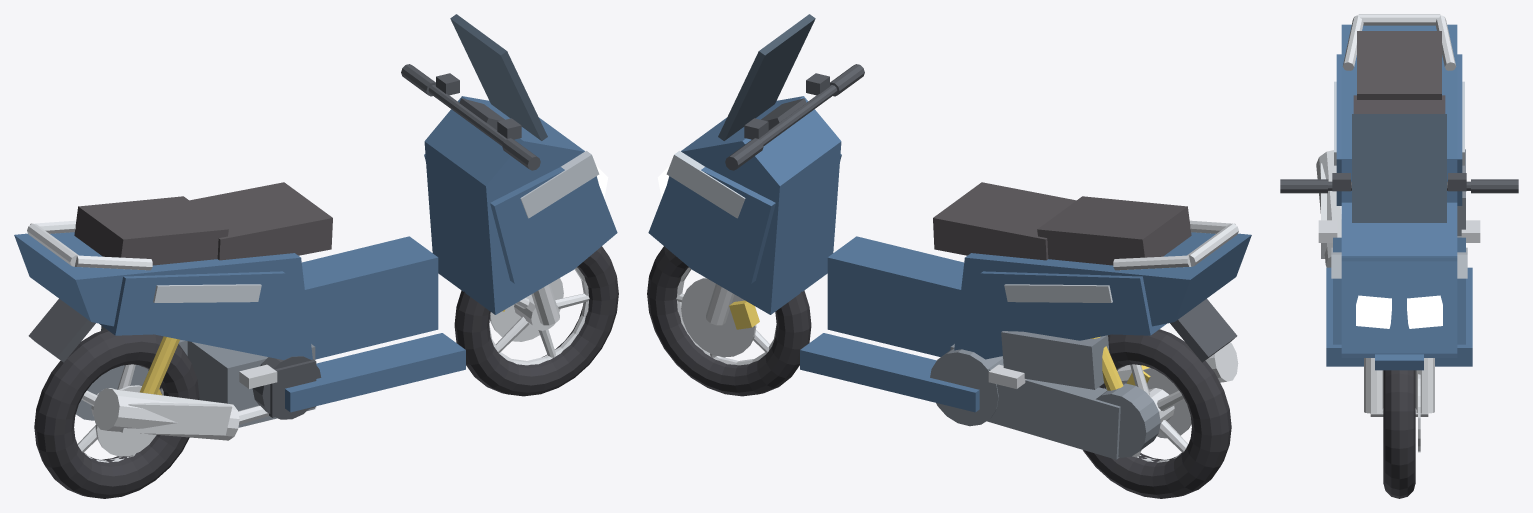
Rendered from yamaha-nmax-155.glb.
3 views of the same model, side by side, from view 1: azimuth 30°, elevation 25°; view 2: azimuth 150°, elevation 25°; view 3: azimuth 270°, elevation 25° (orthographic). The views are drawn at different scales.
Visible parts, largest first — view 1: Bodi_Utama, Roda_Ban, Jok_Motor, Cover_Knalpot, Windshield_Visor, Aksen_Bodi, Mesin_Blok, Master_Rem_Stang, Velg_Roda, Cover_Radiator, Spakbor_Belakang, Behel_Jok (+6 smaller); view 2: Bodi_Utama, Roda_Ban, Cover_CVT, Jok_Motor, Windshield_Visor, Aksen_Bodi, Master_Rem_Stang, Piringan_Depan, Velg_Roda, Spakbor_Belakang, Behel_Jok, Piringan_Belakang (+3 smaller); view 3: Bodi_Utama, Windshield_Visor, Jok_Motor, Roda_Ban, Master_Rem_Stang, Lampu_Depan, Behel_Jok, Suspensi_Depan, Cover_Knalpot, Aksen_Bodi, Spakbor_Depan, Footstep_Belakang (+1 smaller).
Part boxes in pixels (x1,y1,x2,y2): Bodi_Utama: (14,96,617,412); Roda_Ban: (34,246,618,498); Jok_Motor: (74,182,332,265); Cover_Knalpot: (93,388,268,440); Windshield_Visor: (450,14,547,140); Aksen_Bodi: (153,151,599,302); Mesin_Blok: (187,341,315,427); Master_Rem_Stang: (401,64,540,170); Velg_Roda: (77,267,589,462); Cover_Radiator: (252,356,321,419); Spakbor_Belakang: (28,298,95,362); Behel_Jok: (27,220,152,270); Bodi_Utama: (648,96,1251,412); Roda_Ban: (647,246,1231,498); Cover_CVT: (930,331,1160,459); Jok_Motor: (933,182,1191,265); Windshield_Visor: (718,14,815,140); Aksen_Bodi: (666,151,1112,302); Master_Rem_Stang: (725,64,864,170); Piringan_Depan: (681,277,756,357); Velg_Roda: (676,267,1188,462); Spakbor_Belakang: (1170,298,1237,362); Behel_Jok: (1113,220,1238,270); Piringan_Belakang: (1143,368,1191,438); Bodi_Utama: (1326,24,1472,366); Windshield_Visor: (1352,114,1446,222); Jok_Motor: (1353,31,1445,113); Roda_Ban: (1383,370,1415,498); Master_Rem_Stang: (1280,173,1518,193); Lampu_Depan: (1356,295,1442,328); Behel_Jok: (1342,14,1456,70); Suspensi_Depan: (1364,358,1434,416); Cover_Knalpot: (1316,150,1341,267); Aksen_Bodi: (1331,81,1467,278); Spakbor_Depan: (1375,354,1423,370); Footstep_Belakang: (1318,220,1480,242).
Bounding box in the file's own units: 1.85 × 1.14 × 0.7.
